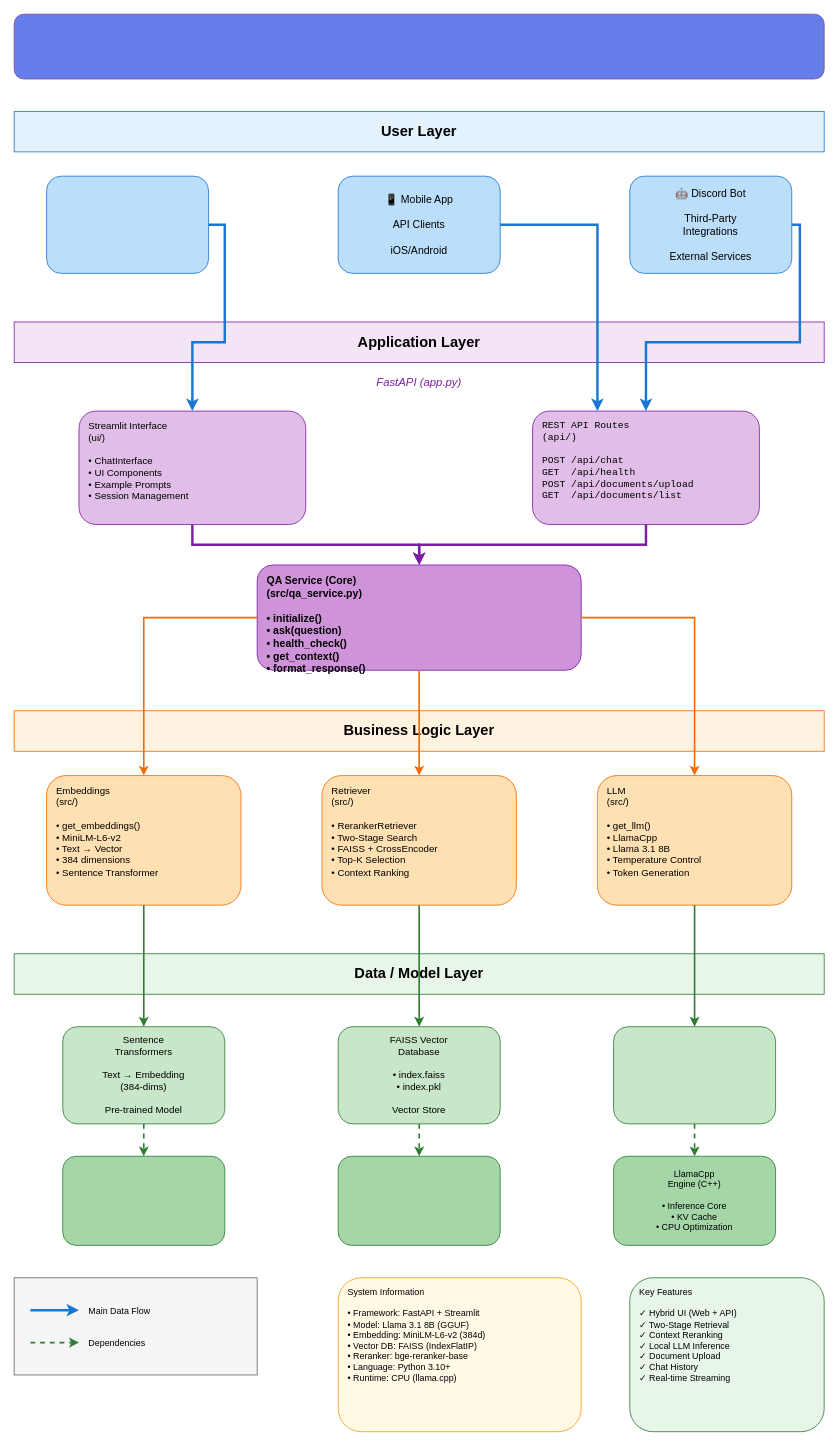
The diagram is 838 pixels wide and 1446 high, and some of its shapes have lost their labels. The shapes that lost their labels are listed below. From the top down, each one's box as (x1, y1, x2, y2) in pixels, then its label:
(13, 13, 824, 79): Llama 3 Chatbot System (Streamlit + FastAPI Hybrid Architecture)
(46, 175, 209, 273): 🌐 Web Browser localhost:8501/ Streamlit UI
(613, 1026, 776, 1124): GGUF Model File • llama-3.1-8b... • 4.9GB Quantized Weights
(62, 1155, 225, 1245): CrossEncoder (Reranker) • bge-reranker-base • Re-Ranking • Semantic Scoring
(337, 1155, 500, 1245): Document Store (Raw Docs) data/ directory (.txt / .pdf / .docx) Source Files
(13, 1277, 257, 1375): Legend
